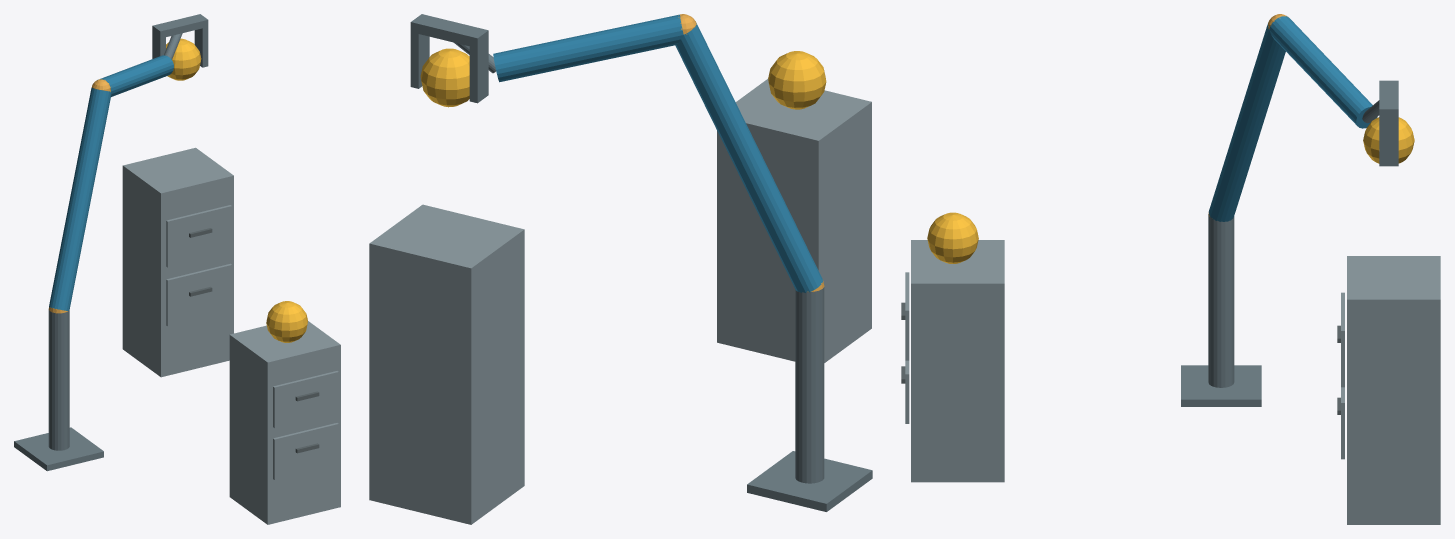
3 views of the same model, side by side, from view 1: azimuth 30°, elevation 25°; view 2: azimuth 150°, elevation 25°; view 3: azimuth 270°, elevation 25° (orthographic). The views are drawn at different scales.
Visible parts, largest first — view 1: cabinet_2 body, cabinet_1 body, moving link 1, cabinet_2 drawer front, cabinet_2 drawer front.001, fixed post, cabinet_1 drawer front, cabinet_1 drawer front.001, pedestal, moving link 2, released ball_1, ball ball_2 (+2 smaller); view 2: cabinet_2 body, cabinet_1 body, moving link 1, fixed post, moving link 2, pedestal, released ball_1, ball ball_2, gripper bridge, gripper finger -1, gripper finger 1; view 3: cabinet_2 body, cabinet_1 body, moving link 1, fixed post, moving link 2, pedestal, released ball_1, ball ball_2, gripper finger 1, gripper bridge.
Part boxes in pixels (<box>): cabinet_2 body: <box>122,147,233,377</box>; cabinet_1 body: <box>229,321,340,524</box>; moving link 1: <box>49,87,111,310</box>; cabinet_2 drawer front: <box>166,263,231,326</box>; cabinet_2 drawer front.001: <box>166,205,231,267</box>; fixed post: <box>48,310,69,450</box>; cabinet_1 drawer front: <box>273,423,338,479</box>; cabinet_1 drawer front.001: <box>273,371,338,427</box>; pedestal: <box>14,427,103,471</box>; moving link 2: <box>98,55,173,96</box>; released ball_1: <box>266,301,307,342</box>; ball ball_2: <box>166,38,201,80</box>; cabinet_2 body: <box>369,204,524,524</box>; cabinet_1 body: <box>717,79,871,362</box>; moving link 1: <box>675,23,823,292</box>; fixed post: <box>795,287,824,483</box>; moving link 2: <box>493,14,683,82</box>; pedestal: <box>747,451,872,511</box>; released ball_1: <box>768,51,826,109</box>; ball ball_2: <box>420,48,469,107</box>; gripper bridge: <box>410,14,488,48</box>; gripper finger -1: <box>469,40,488,103</box>; gripper finger 1: <box>410,32,429,88</box>; cabinet_2 body: <box>1347,256,1440,524</box>; cabinet_1 body: <box>911,240,1004,482</box>; moving link 1: <box>1208,24,1285,221</box>; fixed post: <box>1208,215,1234,387</box>; moving link 2: <box>1269,16,1377,128</box>; pedestal: <box>1181,365,1261,406</box>; released ball_1: <box>927,212,978,263</box>; ball ball_2: <box>1363,117,1414,163</box>; gripper finger 1: <box>1379,118,1398,166</box>; gripper bridge: <box>1379,80,1398,118</box>.
Bounding box in the file's own units: 1.12 × 1.42 × 1.67.
